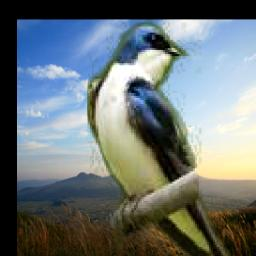Swallow: (87, 19, 235, 256)
